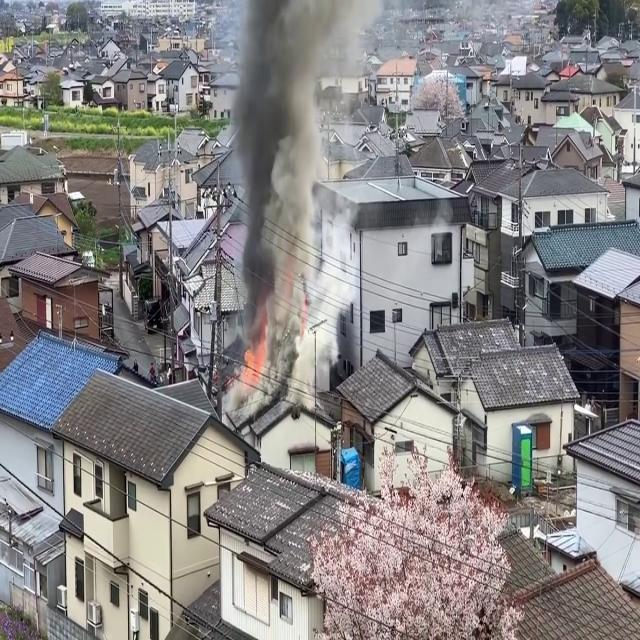Fire: (238, 326, 268, 384)
Smoke: (227, 0, 348, 378)
